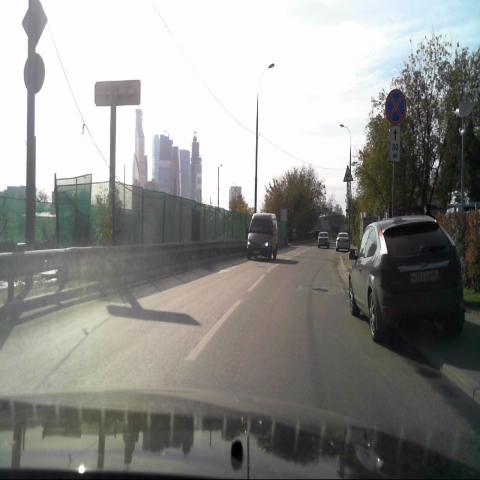8_2_2: (390, 126, 401, 160)
